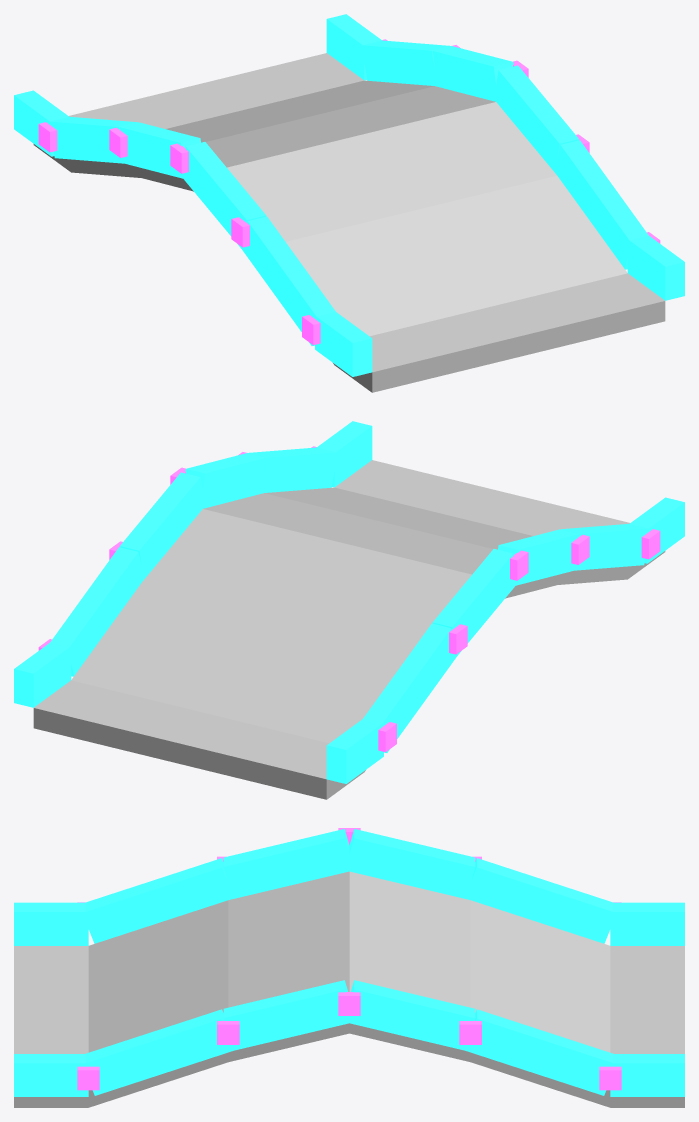
3 renders of one model, top to bottom at view 1: azimuth 30°, elevation 25°; view 2: azimuth 150°, elevation 25°; view 3: azimuth 270°, elevation 25°, orthographic.
Parts seen in each view (by area): view 1: Neon_BankRamp_Standard; view 2: Neon_BankRamp_Standard; view 3: Neon_BankRamp_Standard.
Boxes of the visible parts, x1,y1,x2,y2 form: Neon_BankRamp_Standard: [14, 14, 684, 392]; Neon_BankRamp_Standard: [14, 421, 684, 799]; Neon_BankRamp_Standard: [14, 828, 684, 1107].
Bounding box in the file's own units: 2.13 × 0.7567 × 3.6.
